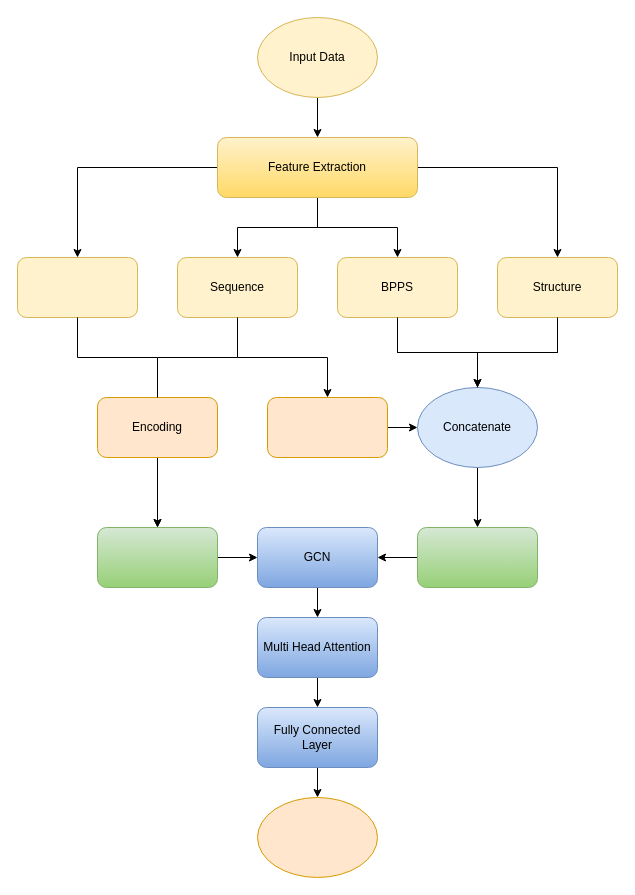
This 635x895 diagram has some shape labels left out. The box of each missing label's shape, as (x1, y1, x2, y2) in pixels:
Adjacency Matrix: (416, 526, 538, 588)
Distance: (266, 396, 388, 458)
Node: (96, 526, 218, 588)
Output Data: (256, 796, 378, 878)
Predicted loop type: (16, 256, 138, 318)
